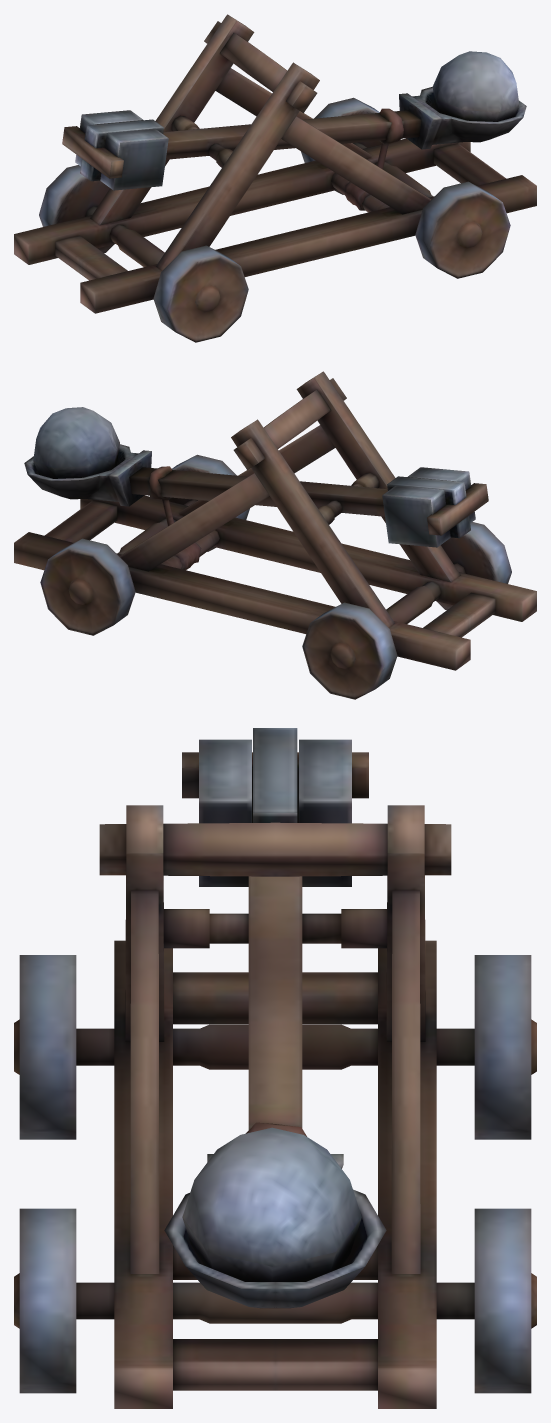
The model's file is Catapult.glb.
3 views of the same model, one above another, from view 1: azimuth 30°, elevation 25°; view 2: azimuth 150°, elevation 25°; view 3: azimuth 270°, elevation 25° (orthographic). The views are drawn at different scales.
Parts seen in each view (by area): view 1: 1; view 2: 1; view 3: 1.
Part boxes in pixels (<box>): 1: <box>14,14,536,342</box>; 1: <box>14,371,536,699</box>; 1: <box>14,728,536,1408</box>.
Bounding box in the file's own units: 8.89 × 4.06 × 4.38.
1 material, 1 textured.
